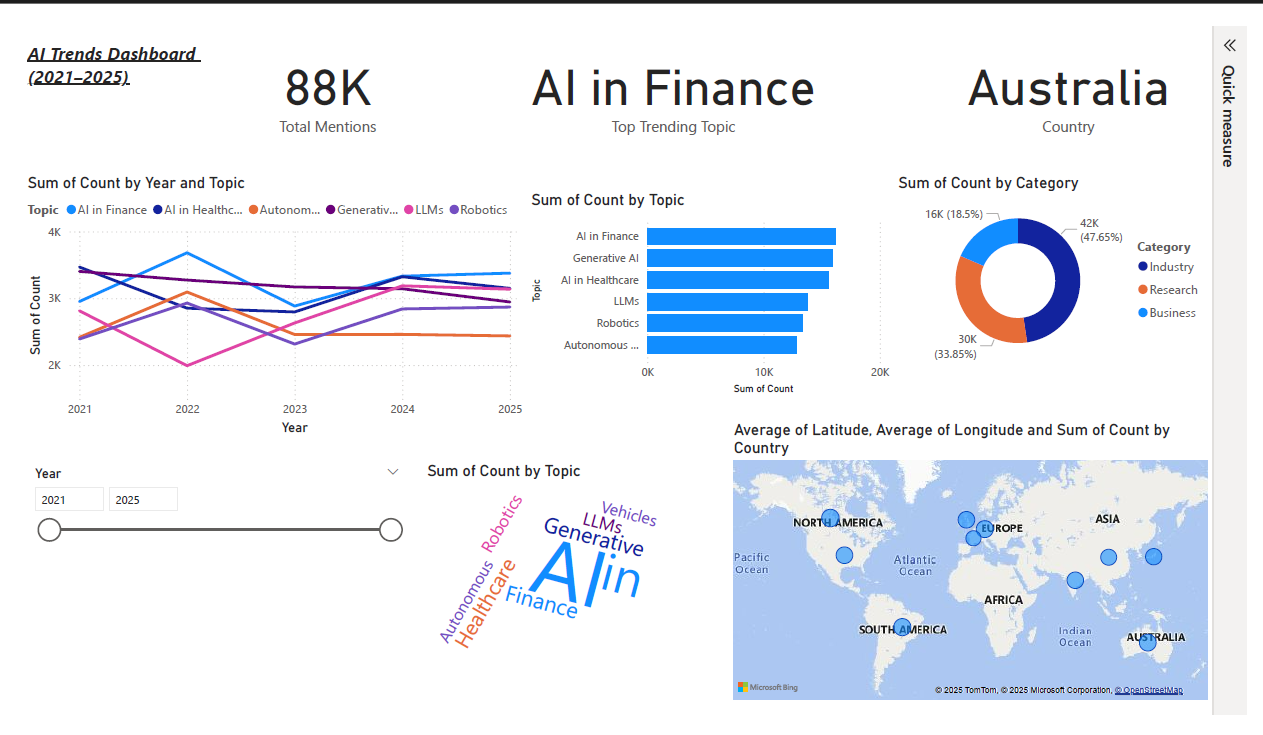

What the dashboard file says about the page in this screenshot:
{"tool":"powerbi","page":{"name":"Page 1","canvas":[1280,720],"ordinal":0},"visuals":[{"type":"card","fields":{"Values":["Sum(AI_Trends.Count)"]},"box":[208.3,0,240,116.7],"z":0},{"type":"card","fields":{"Values":["Min(AI_Trends.Topic)"]},"box":[430,0,540,116.7],"z":1},{"type":"card","fields":{"Values":["Min(AI_Trends.Country)"]},"box":[970,0,310,116.7],"z":2},{"type":"lineChart","fields":{"Category":["AI_Trends.Year"],"Y":["Sum(AI_Trends.Count)"],"Series":["AI_Trends.Topic"]},"box":[0,146.7,541.7,286.7],"z":3},{"type":"clusteredBarChart","fields":{"Category":["AI_Trends.Topic"],"Y":["Sum(AI_Trends.Count)"]},"box":[541.7,165,395,225],"z":4},{"type":"donutChart","fields":{"Category":["AI_Trends.Category"],"Y":["Sum(AI_Trends.Count)"]},"box":[936.7,146.7,343.3,213.3],"z":5},{"type":"map","fields":{"Category":["AI_Trends.Country"],"Y":["Avg(AI_Trends.Latitude)"],"X":["Avg(AI_Trends.Longitude)"],"Size":["Sum(AI_Trends.Count)"]},"box":[760,413.3,520,306.7],"z":6},{"type":"slicer","fields":{"Values":["AI_Trends.Year"]},"box":[0,456.7,416.7,263.3],"z":7},{"type":"WordCloud1447959067750","fields":{"Category":["AI_Trends.Topic"],"Values":["Sum(AI_Trends.Count)"]},"box":[430,456.7,330,263.3],"z":8},{"type":"textbox","box":[0,0,245,116.7],"z":9}]}

Visuals, with their boxes on the page's 1280x720 design canvas (x1, y1, x2, y2). These are canvas units, not pixel positions in the 1263x735 screenshot, which may show the page scaled, cropped or inside an application window:
card - Sum(AI_Trends.Count): x1=208 y1=0 x2=448 y2=117
card - Min(AI_Trends.Topic): x1=430 y1=0 x2=970 y2=117
card - Min(AI_Trends.Country): x1=970 y1=0 x2=1280 y2=117
lineChart - AI_Trends.Year x Sum(AI_Trends.Count): x1=0 y1=147 x2=542 y2=433
clusteredBarChart - AI_Trends.Topic x Sum(AI_Trends.Count): x1=542 y1=165 x2=937 y2=390
donutChart - AI_Trends.Category x Sum(AI_Trends.Count): x1=937 y1=147 x2=1280 y2=360
map - AI_Trends.Country x Avg(AI_Trends.Latitude): x1=760 y1=413 x2=1280 y2=720
slicer - AI_Trends.Year: x1=0 y1=457 x2=417 y2=720
WordCloud1447959067750 - AI_Trends.Topic x Sum(AI_Trends.Count): x1=430 y1=457 x2=760 y2=720
textbox: x1=0 y1=0 x2=245 y2=117
